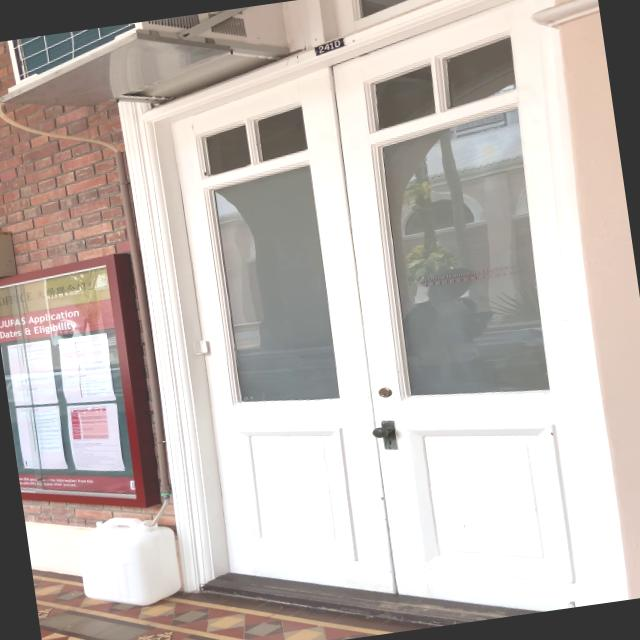room241d: (308, 36, 348, 56)
